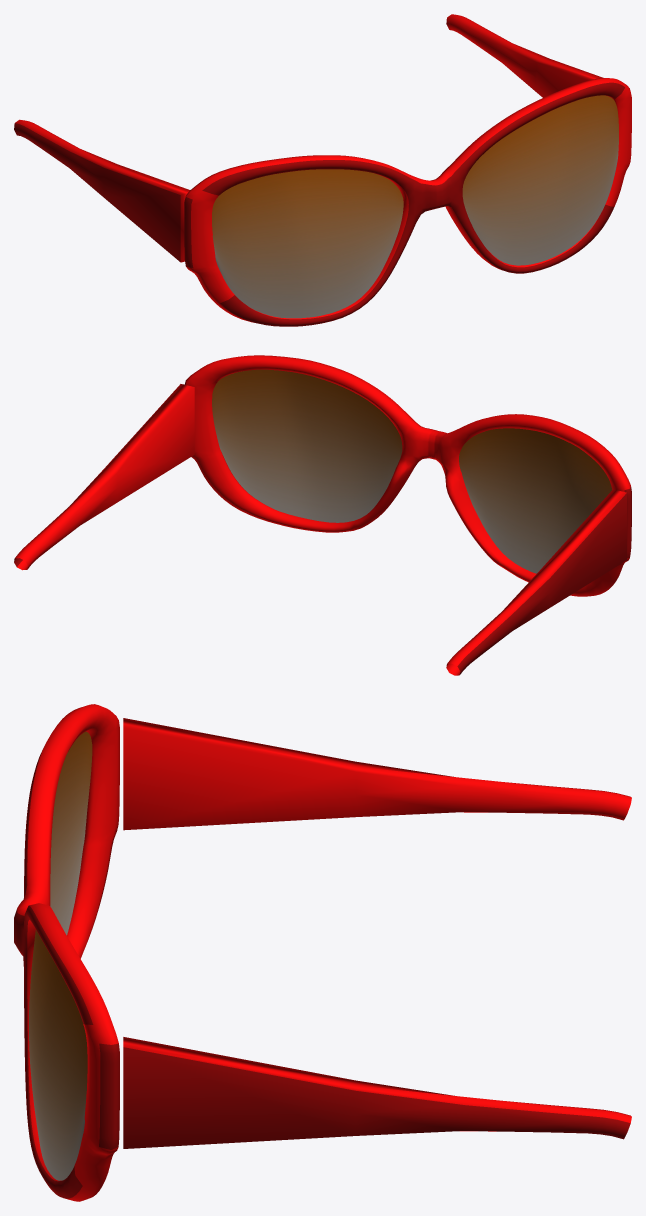
File: redglasses2.obj
3 views of the same model, one above another, from view 1: azimuth 30°, elevation 25°; view 2: azimuth 150°, elevation 25°; view 3: azimuth 270°, elevation 25° (orthographic). The views are drawn at different scales.
Bounding box in the file's own units: 38.98 × 13.99 × 30.92.
4 materials, 1 textured.
